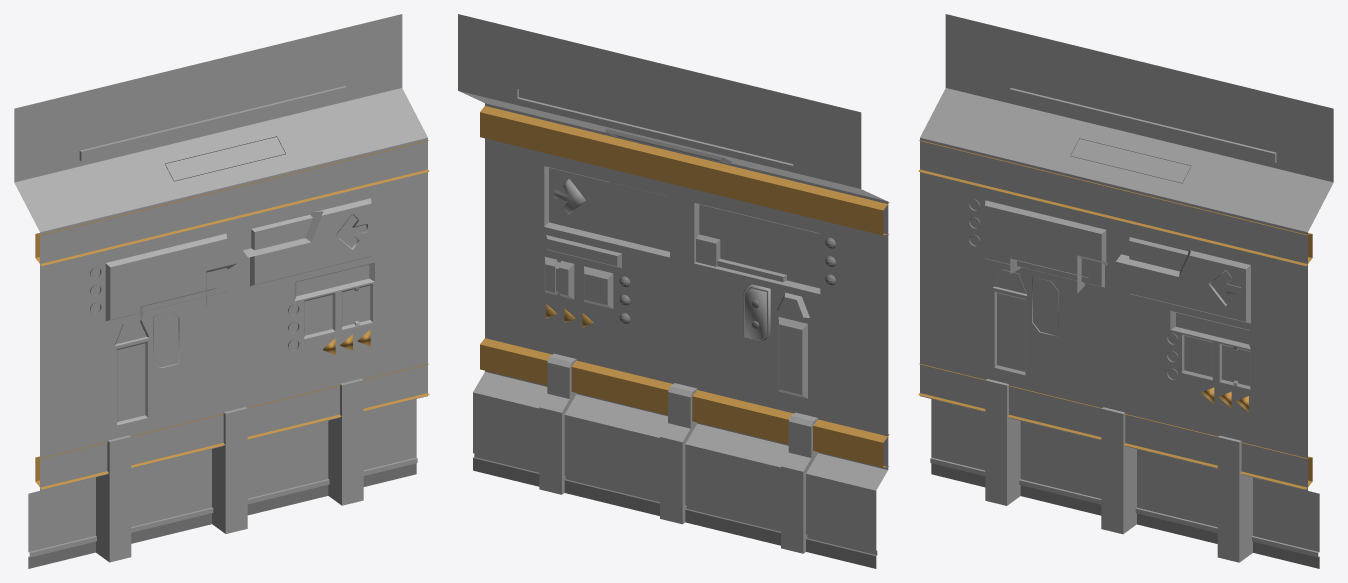
The model's file is wall_4.016_lev3.glb.
The picture shows the model from 3 angles, left to right: view 1: azimuth 30°, elevation 25°; view 2: azimuth 150°, elevation 25°; view 3: azimuth 330°, elevation 25°; orthographic projection. The views are drawn at different scales.
Parts seen in each view (by area): view 1: wall_4.016_lev3; view 2: wall_4.016_lev3; view 3: wall_4.016_lev3.
Part boxes in pixels (x1=…): wall_4.016_lev3: x1=14, y1=14, x2=429, y2=568; wall_4.016_lev3: x1=458, y1=14, x2=889, y2=568; wall_4.016_lev3: x1=918, y1=14, x2=1333, y2=568.
Size of the model in its own units: 4 by 4.43 by 0.5726.
